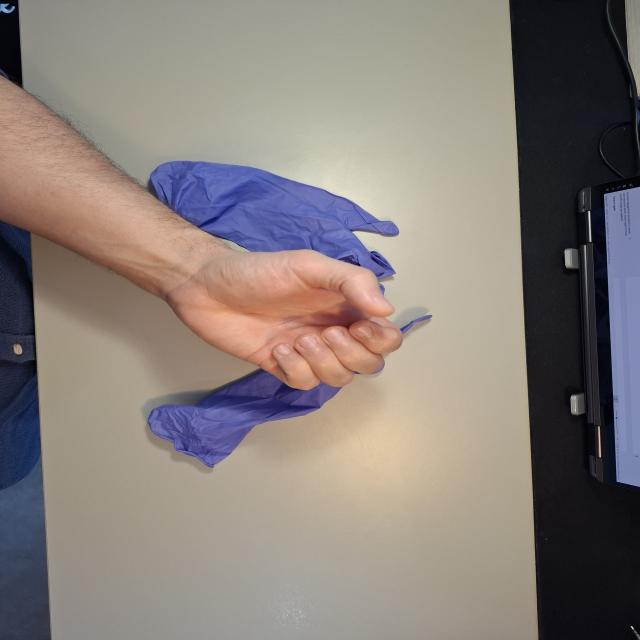glove_off: (156, 245, 406, 391)
